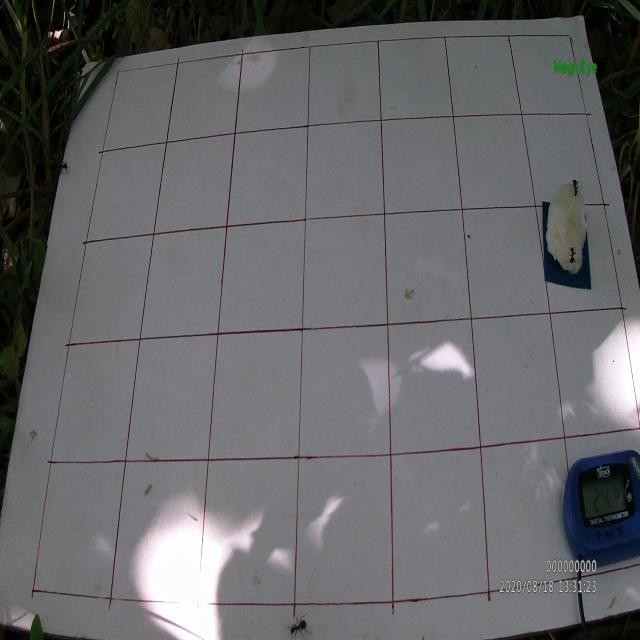Ant: (283, 611, 312, 639), (569, 178, 581, 204), (56, 160, 70, 178), (567, 244, 576, 264)
